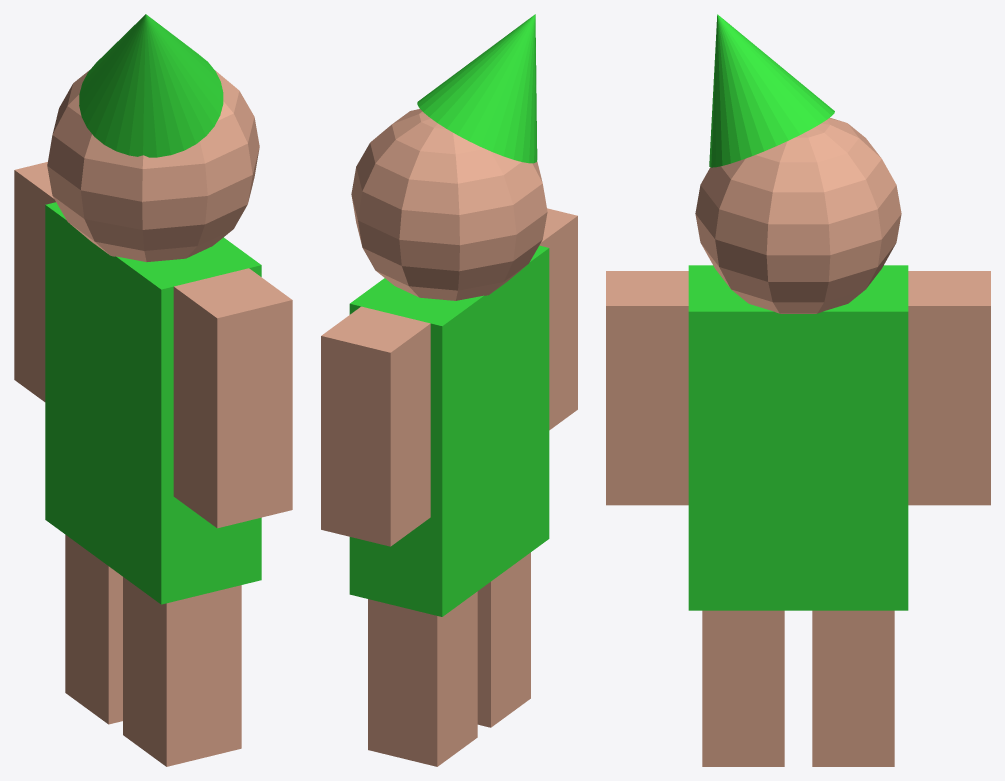
3 renders of one model, left to right at view 1: azimuth 30°, elevation 25°; view 2: azimuth 150°, elevation 25°; view 3: azimuth 270°, elevation 25°, orthographic. The views are drawn at different scales.
Parts seen in each view (by area): view 1: 立方体, 立方体.004, 球, 立方体.002, 円錐, 立方体.001, 立方体.003; view 2: 立方体, 球, 立方体.003, 立方体.001, 円錐, 立方体.002, 立方体.004; view 3: 立方体, 球, 立方体.003, 立方体.004, 立方体.001, 立方体.002, 円錐.
Part boxes in pixels (x1,y1,x2,y2): 立方体: (45,202,261,604); 立方体.004: (173,268,292,528); 球: (47,70,259,262); 立方体.002: (123,577,241,766); 円錐: (79,14,223,157); 立方体.001: (65,535,122,724); 立方体.003: (14,162,55,401); 立方体: (349,245,549,616); 球: (351,109,547,300); 立方体.003: (321,306,430,546); 立方体.001: (368,591,477,766); 円錐: (417,14,537,163); 立方体.002: (477,552,530,727); 立方体.004: (539,208,577,430); 立方体: (688,265,908,610); 球: (695,118,901,313); 立方体.003: (908,271,990,505); 立方体.004: (606,271,688,505); 立方体.001: (812,610,894,766); 立方体.002: (702,610,784,766); 円錐: (709,14,834,167).
Size of the model in its own units: 285 by 1143 by 560.
